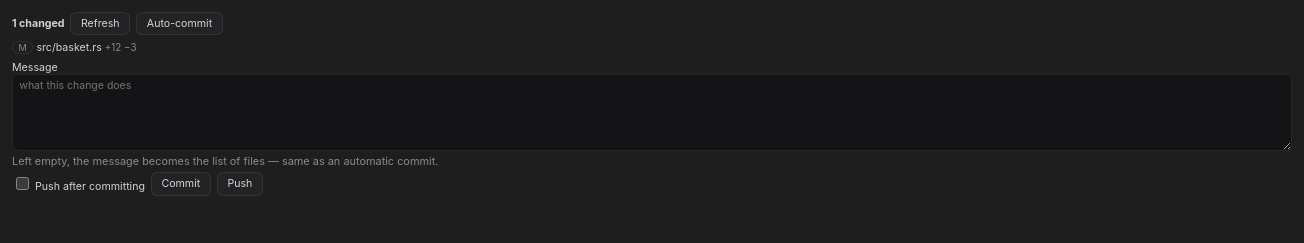
it: GitPanel › commits what changed with the message that was typed
Step 1. Type "Fix the basket" into the text box named "Commit message" → (652,112), box [12,74,1292,151]
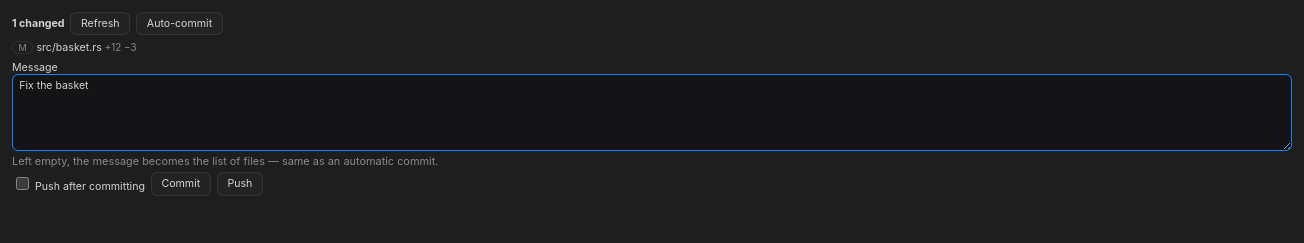
Step 2. Click the button "Commit" → (181,184), box [151,172,211,196]
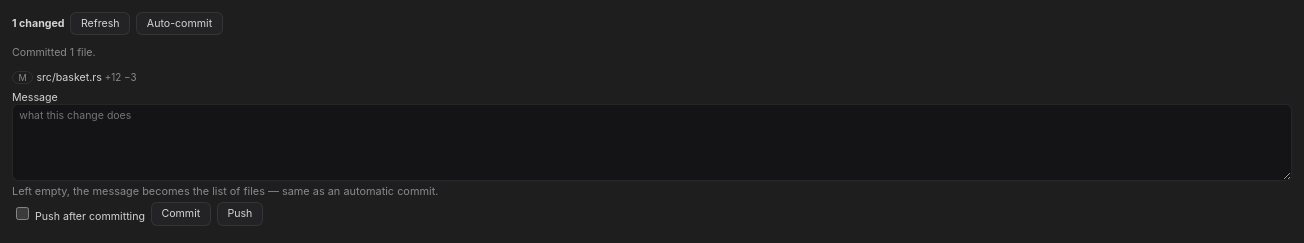
Result: the text "Committed 1 file." is shown at [12,46,96,59]
